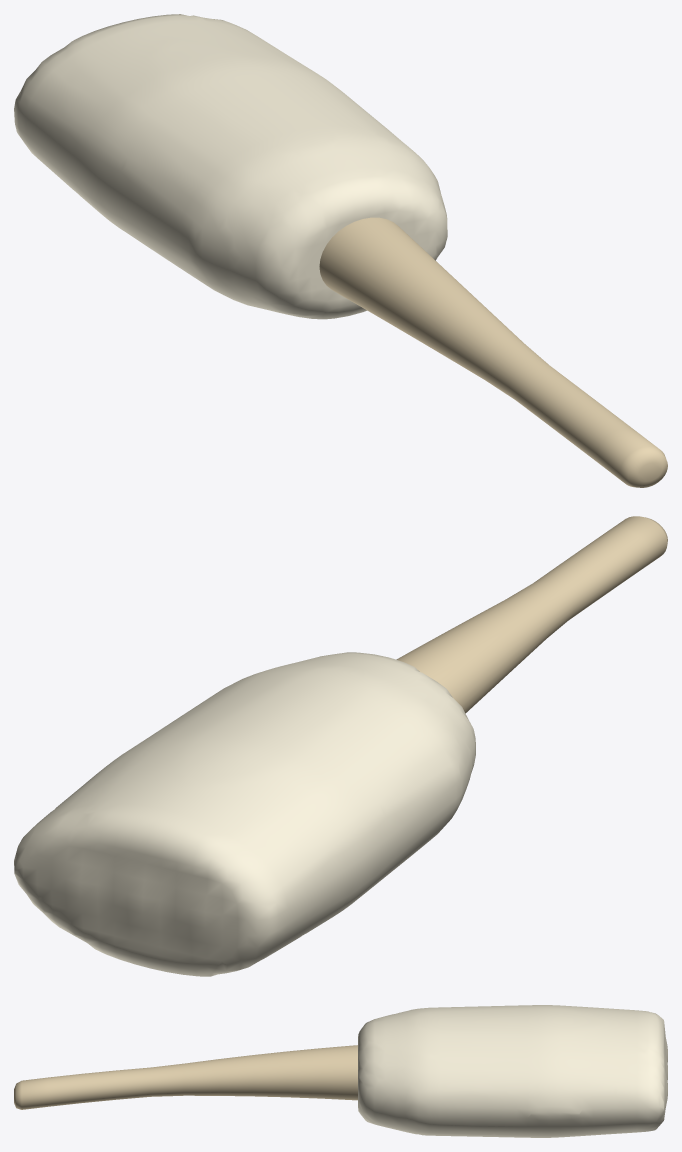
Rendered from lateral-incisor.glb.
The picture shows the model from 3 angles, top to bottom: view 1: azimuth 30°, elevation 25°; view 2: azimuth 150°, elevation 25°; view 3: azimuth 270°, elevation 25°; orthographic projection. The views are drawn at different scales.
Parts seen in each view (by area): view 1: Crown_Anatomical.001, Root_1.001; view 2: Crown_Anatomical.001, Root_1.001; view 3: Crown_Anatomical.001, Root_1.001.
Part boxes in pixels (<box>): Crown_Anatomical.001: <box>14,14,447,319</box>; Root_1.001: <box>319,217,667,487</box>; Crown_Anatomical.001: <box>14,652,475,976</box>; Root_1.001: <box>396,516,667,713</box>; Crown_Anatomical.001: <box>358,1005,667,1137</box>; Root_1.001: <box>14,1045,357,1109</box>.
Size of the model in its own units: 0.6142 by 0.3724 by 2.09.
